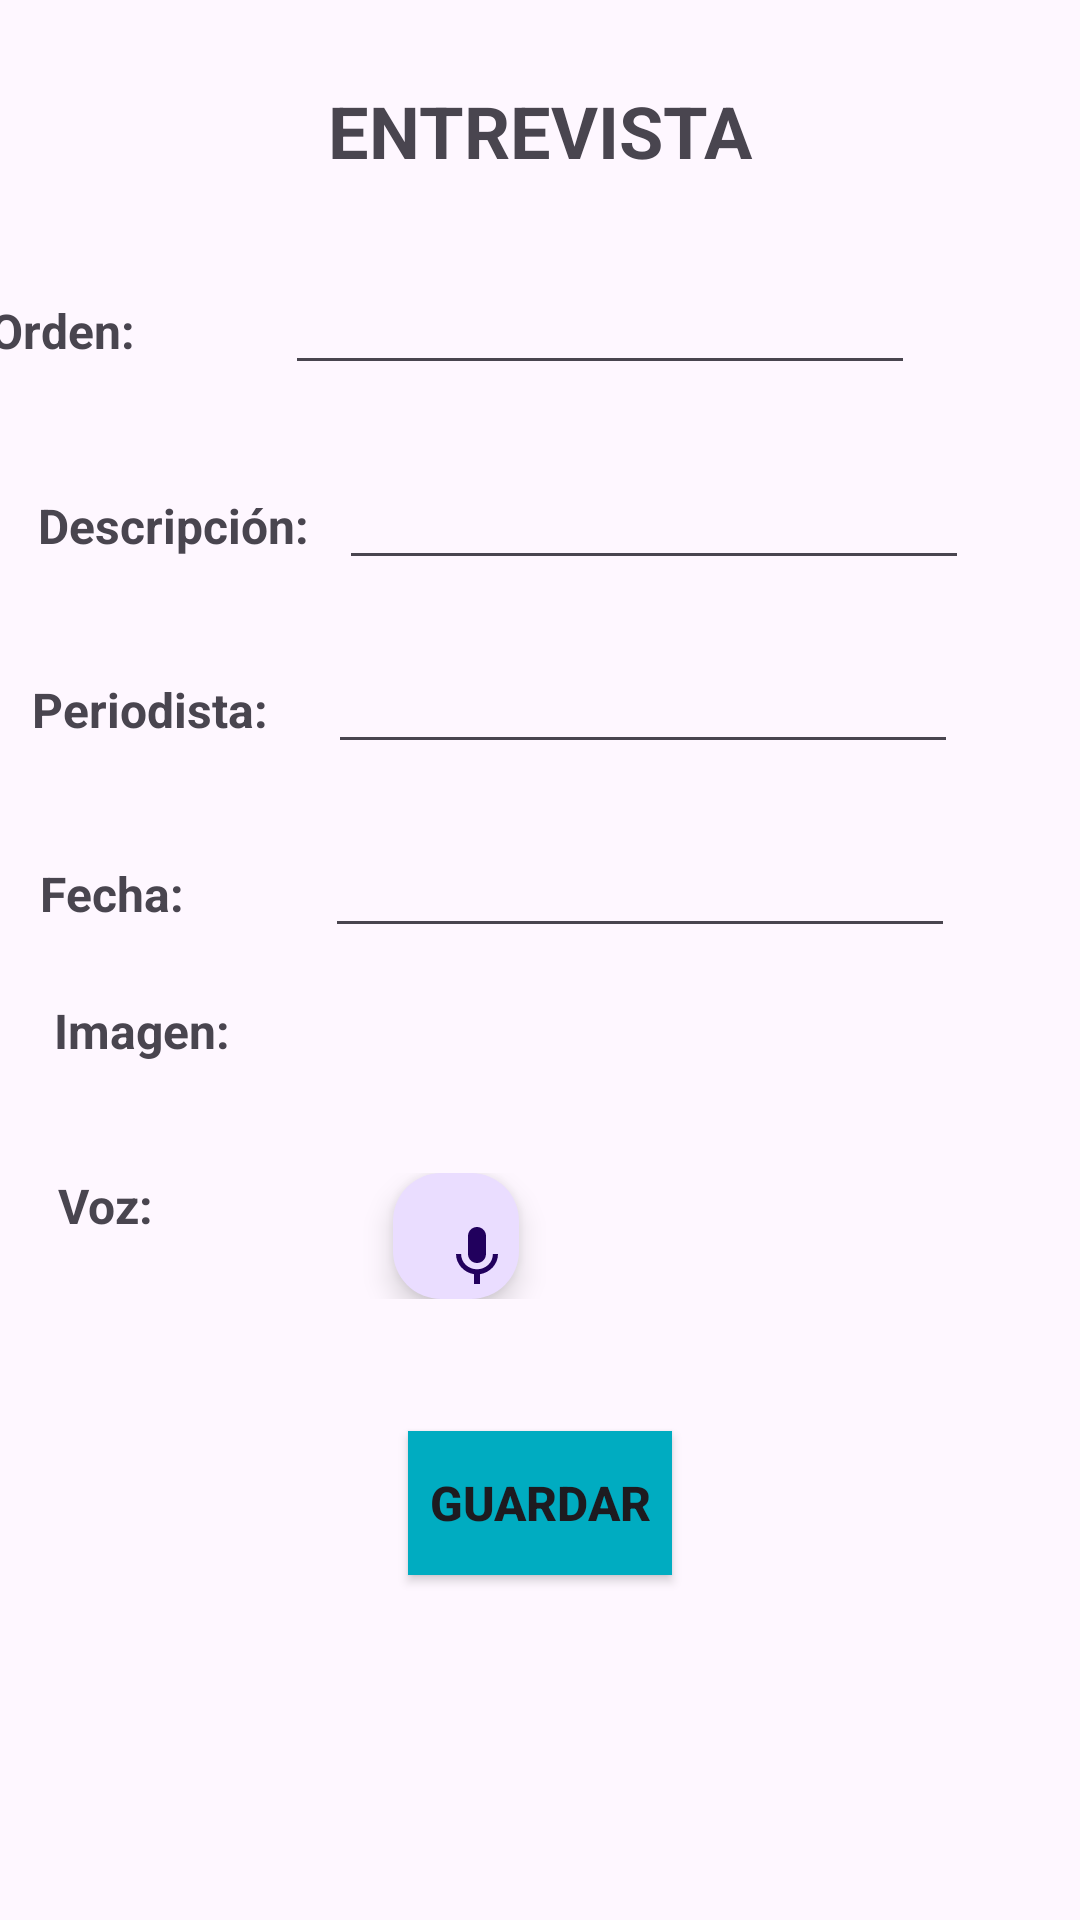

Named icons in this screenshot (1080x1920) and their centers, point (x, y):
audio: point (456, 1236)
